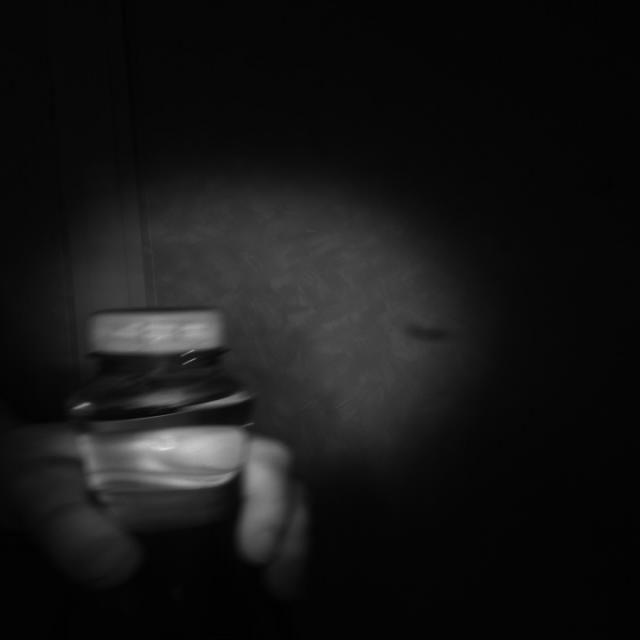Good: (81, 302, 229, 354)
